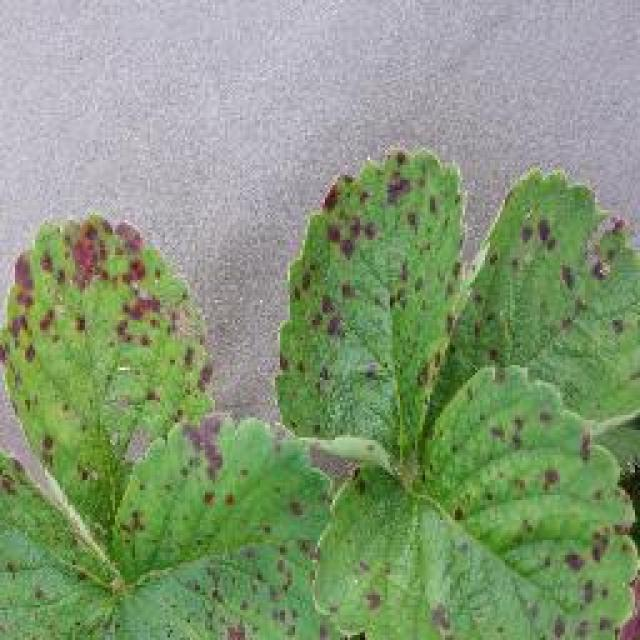Strawberry leaf scorch: (30, 240, 177, 423)
